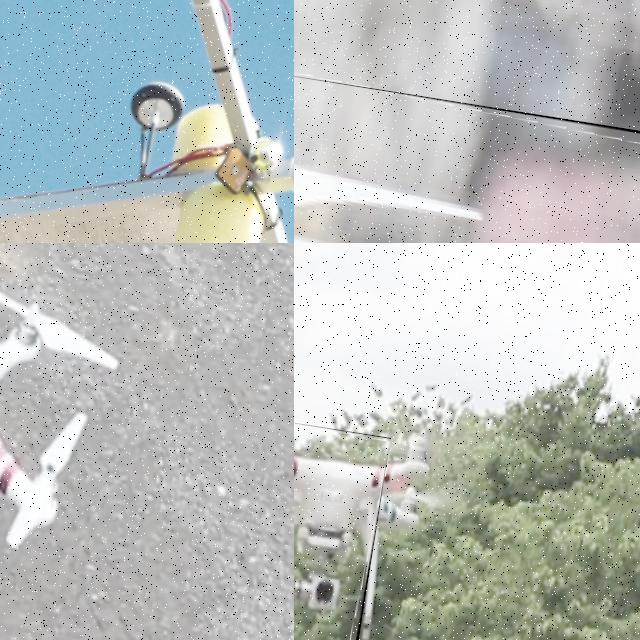drone: (0, 0, 294, 243), (294, 66, 640, 243), (294, 414, 391, 640)
